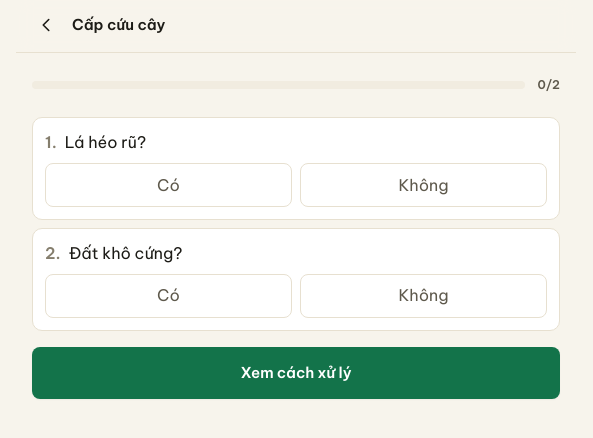
Tiện ích › rescue: answers questions and shows a plan
Click the button "Có" below "Lá héo rũ?" at {"x": 168, "y": 185}, box [45,163,292,207]
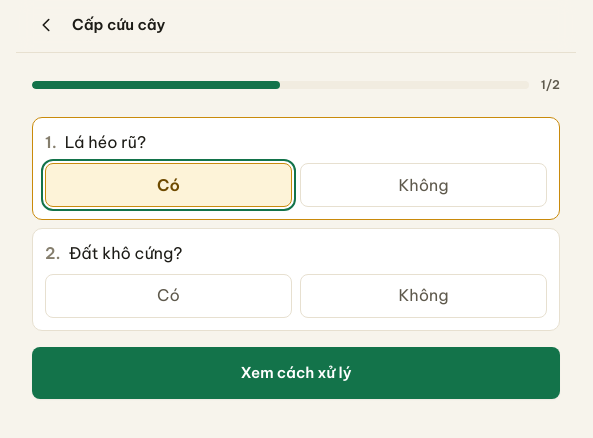
Click the button "Có" below "Đất khô cứng?" at {"x": 168, "y": 296}, box [45,274,292,318]
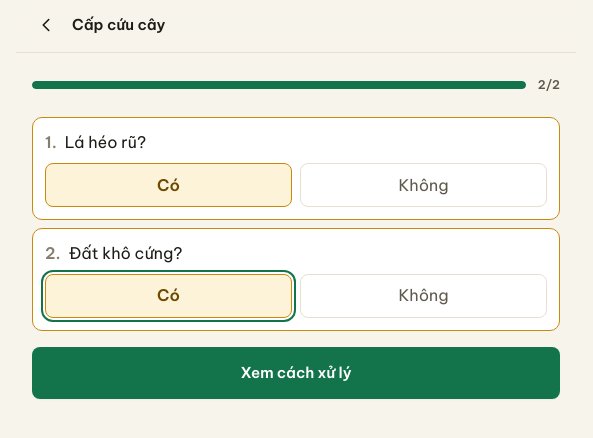
Click the button "Xem cách xử lý" at {"x": 296, "y": 373}, box [32,347,560,399]
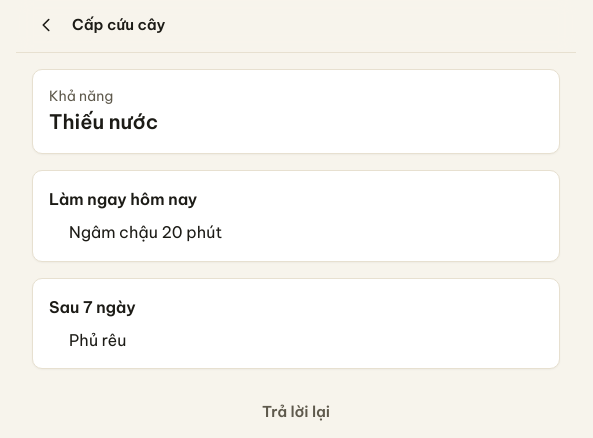
expect the text "Thiếu nước" is shown: met, box [49,109,158,134]
expect the list item "Ngâm chậu 20 phút" is shown: met, box [69,222,222,242]
